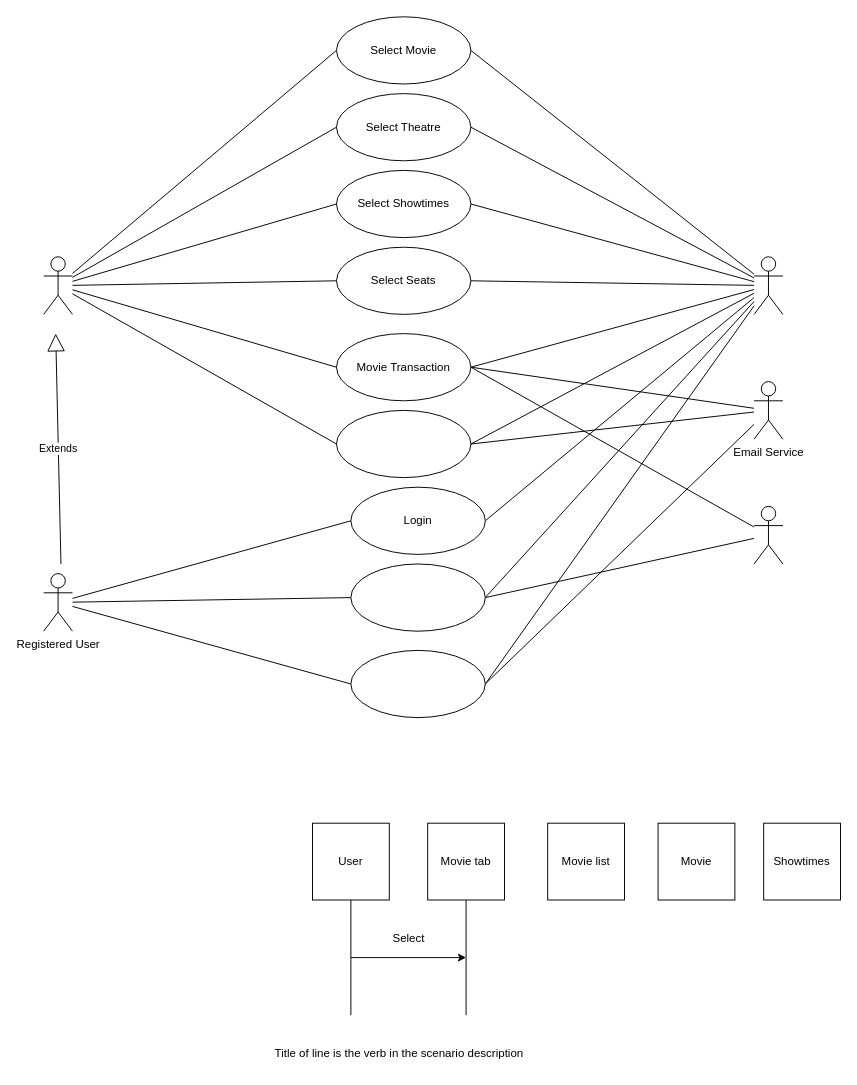
The diagram is 857 pixels wide and 1085 high, and some of its shapes have lost their labels. Each missing label, with the box of its shape:
Cancel Ticket: (336, 409, 471, 478)
Database Engine: (753, 256, 783, 314)
Financial Institute: (753, 505, 783, 564)
Ordinary User: (43, 256, 72, 314)
Receive Movie News: (350, 649, 485, 718)
Subscription Payment: (350, 563, 485, 631)
